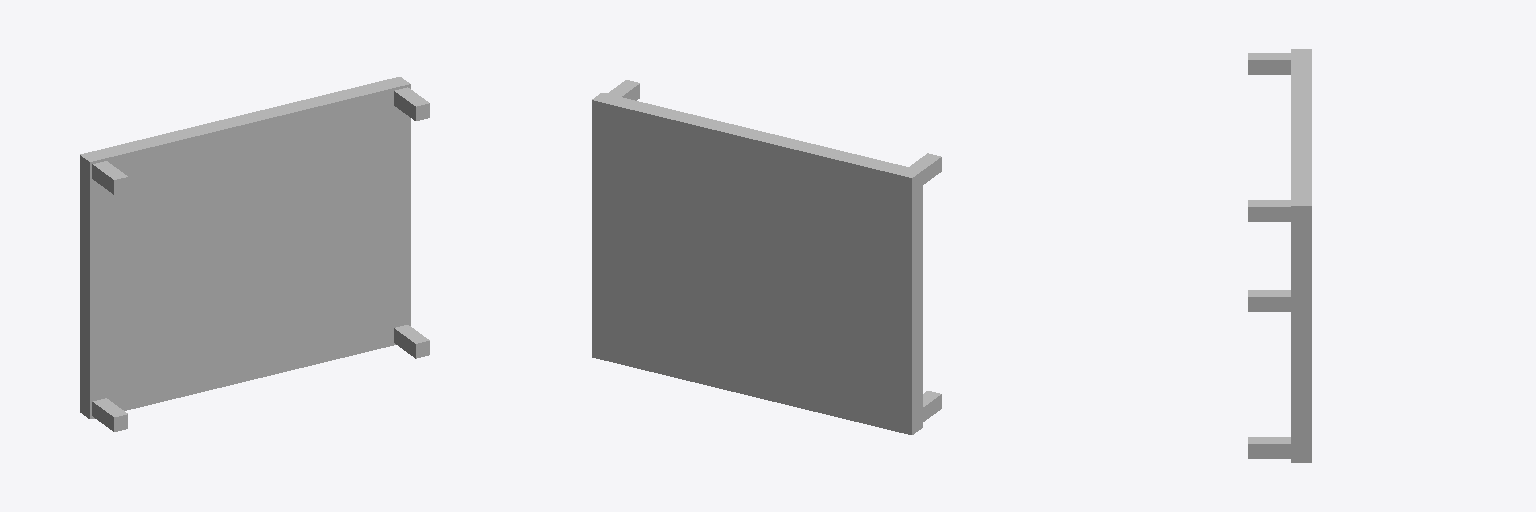
File: random_table9.obj
The picture shows the model from 3 angles: view 1: azimuth 30°, elevation 25°; view 2: azimuth 150°, elevation 25°; view 3: azimuth 270°, elevation 25°; orthographic projection.
Parts seen in each view (by area): view 1: Table_Cube.240, TableLeg1_Cube.242, TableLeg0_Cube.241, TableLeg2_Cube.243, TableLeg3_Cube.244; view 2: Table_Cube.240, TableLeg1_Cube.242; view 3: Table_Cube.240, TableLeg0_Cube.241, TableLeg1_Cube.242, TableLeg2_Cube.243, TableLeg3_Cube.244.
Part boxes in pixels (x1,y1,x2,y2): Table_Cube.240: (80,77,410,418); TableLeg1_Cube.242: (92,161,127,194); TableLeg0_Cube.241: (394,87,429,120); TableLeg2_Cube.243: (394,325,429,358); TableLeg3_Cube.244: (92,398,127,431); Table_Cube.240: (592,93,922,434); TableLeg1_Cube.242: (910,153,941,184); Table_Cube.240: (1291,49,1311,462); TableLeg0_Cube.241: (1248,200,1290,221); TableLeg1_Cube.242: (1248,53,1290,74); TableLeg2_Cube.243: (1248,437,1290,458); TableLeg3_Cube.244: (1248,290,1290,311).
Size of the model in its own units: 10.13 by 7.77 by 1.76.